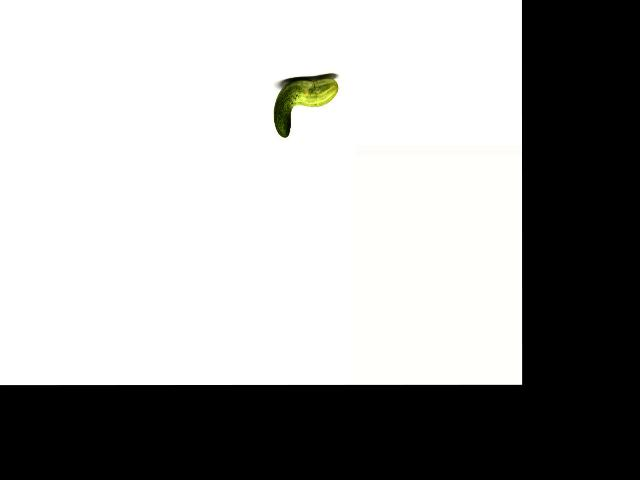cucumber: (273, 77, 337, 137)
